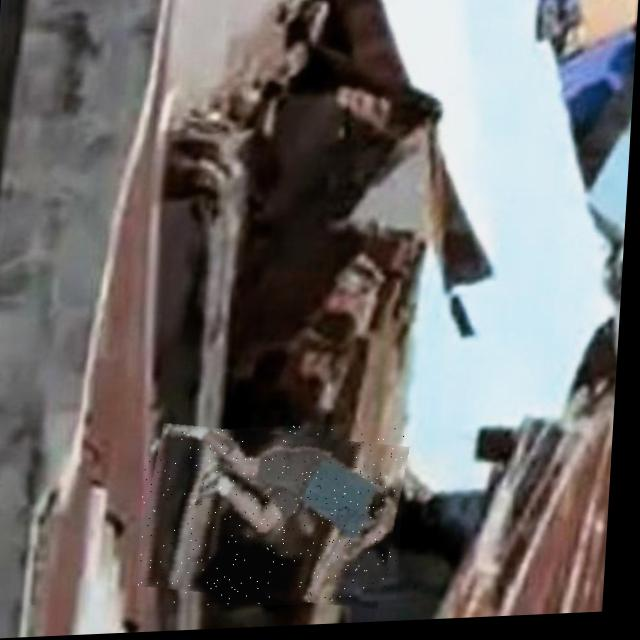Person in Rubble: (142, 425, 412, 613)
